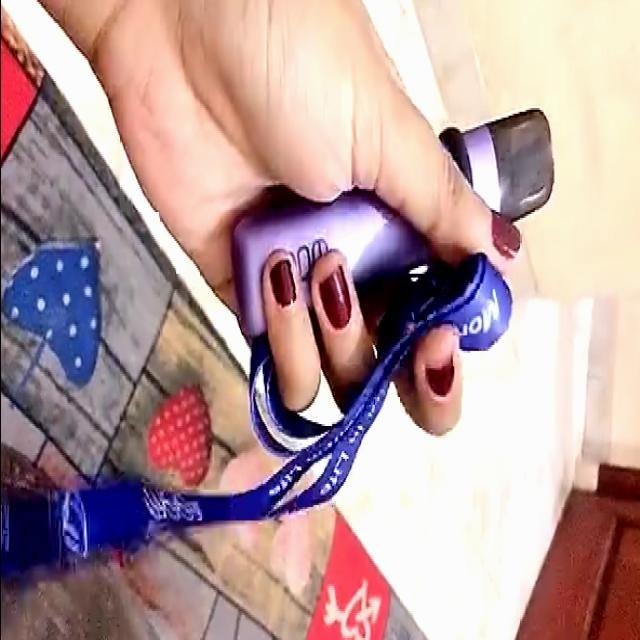Hazard: (230, 106, 556, 344)
